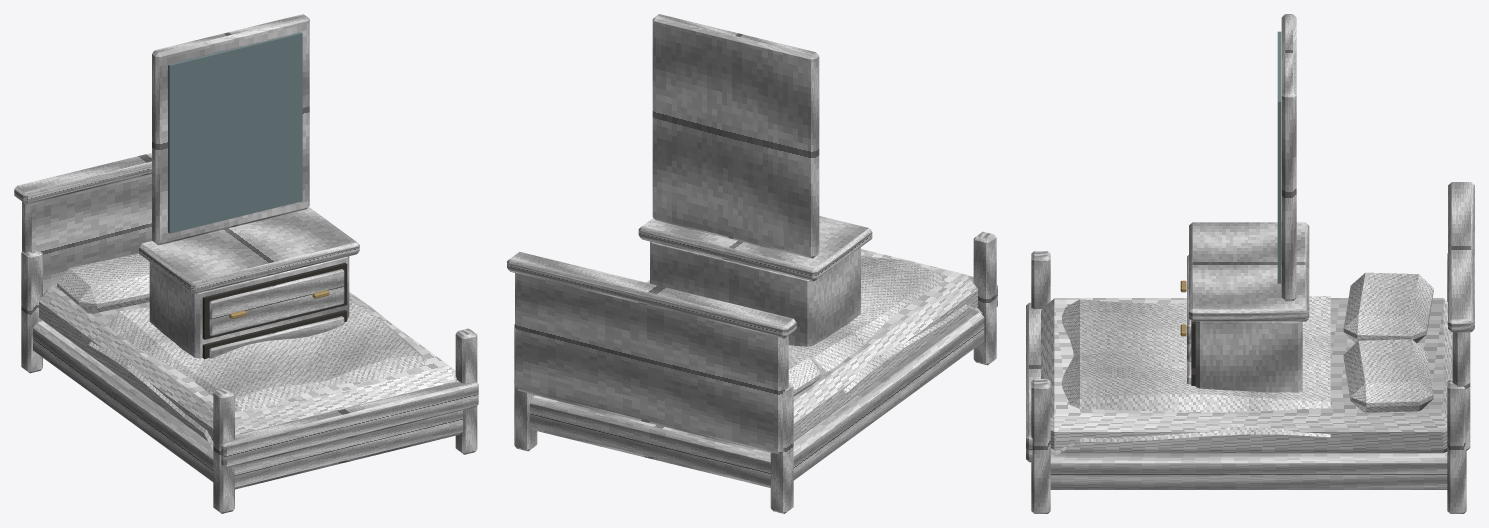
The model's file is bedroom_kit.glb.
3 renders of one model, left to right at view 1: azimuth 30°, elevation 25°; view 2: azimuth 150°, elevation 25°; view 3: azimuth 270°, elevation 25°, orthographic. The views are drawn at different scales.
Visible parts, largest first — view 1: MirrorGlass, FoldedCover, Mattress, Frame, ChestTop, Headboard, MirrorFrame, FootRail, ChestBody, DrawerFace.004, Pillow, HeadboardRim (+6 smaller); view 2: MirrorFrame, Headboard, Frame, ChestBody, Mattress, FoldedCover, HeadboardRim, ChestTop, BedPost.001, BedPost, BedPost.002, Pillow; view 3: Mattress, FoldedCover, Frame, ChestTop, ChestBody, Pillow.001, Pillow, MirrorFrame, HeadboardRim, BedPost.003, BedPost.002, FootRail (+3 smaller).
Boxes of the visible parts, <box> form: MirrorGlass: <box>168,32,302,233</box>; FoldedCover: <box>88,292,426,450</box>; Mattress: <box>39,286,456,441</box>; Frame: <box>33,320,462,489</box>; ChestTop: <box>139,207,359,293</box>; Headboard: <box>22,174,151,294</box>; MirrorFrame: <box>152,14,309,245</box>; FootRail: <box>221,380,478,467</box>; ChestBody: <box>149,256,349,358</box>; DrawerFace.004: <box>209,269,344,336</box>; Pillow: <box>57,253,149,313</box>; HeadboardRim: <box>14,153,151,204</box>; MirrorFrame: <box>652,14,819,258</box>; Headboard: <box>515,273,788,454</box>; Frame: <box>529,310,984,487</box>; ChestBody: <box>650,241,860,346</box>; Mattress: <box>646,249,977,441</box>; FoldedCover: <box>788,255,982,393</box>; HeadboardRim: <box>507,252,796,338</box>; ChestTop: <box>638,216,872,281</box>; BedPost.001: <box>973,231,996,365</box>; BedPost: <box>770,382,793,513</box>; BedPost.002: <box>514,324,537,451</box>; Pillow: <box>788,351,821,396</box>; Mattress: <box>1041,298,1452,453</box>; FoldedCover: <box>1050,295,1330,458</box>; Frame: <box>1050,452,1447,489</box>; ChestTop: <box>1189,222,1309,321</box>; ChestBody: <box>1195,321,1302,392</box>; Pillow.001: <box>1343,339,1433,412</box>; Pillow: <box>1343,272,1433,343</box>; MirrorFrame: <box>1281,14,1296,301</box>; HeadboardRim: <box>1448,182,1474,332</box>; BedPost.003: <box>1031,379,1050,513</box>; BedPost.002: <box>1447,379,1466,513</box>; FootRail: <box>1026,302,1041,462</box>.
Size of the model in its own units: 2.23 by 2.93 by 3.02.
8 materials, 5 textured.
